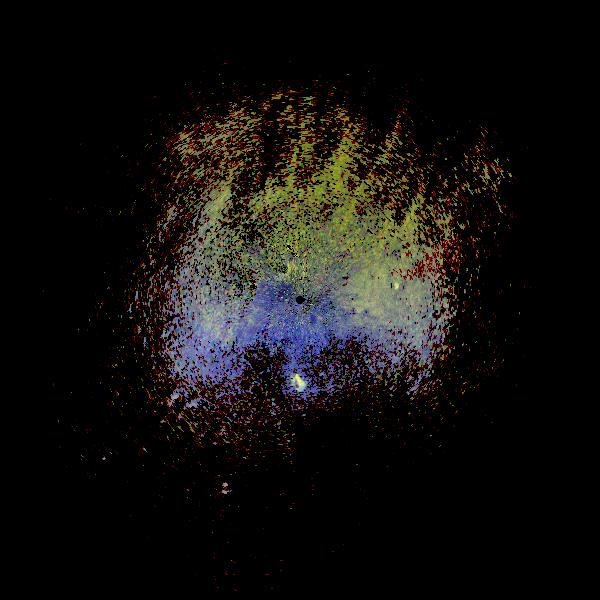roost: (285, 368, 312, 395), (390, 280, 405, 295)
